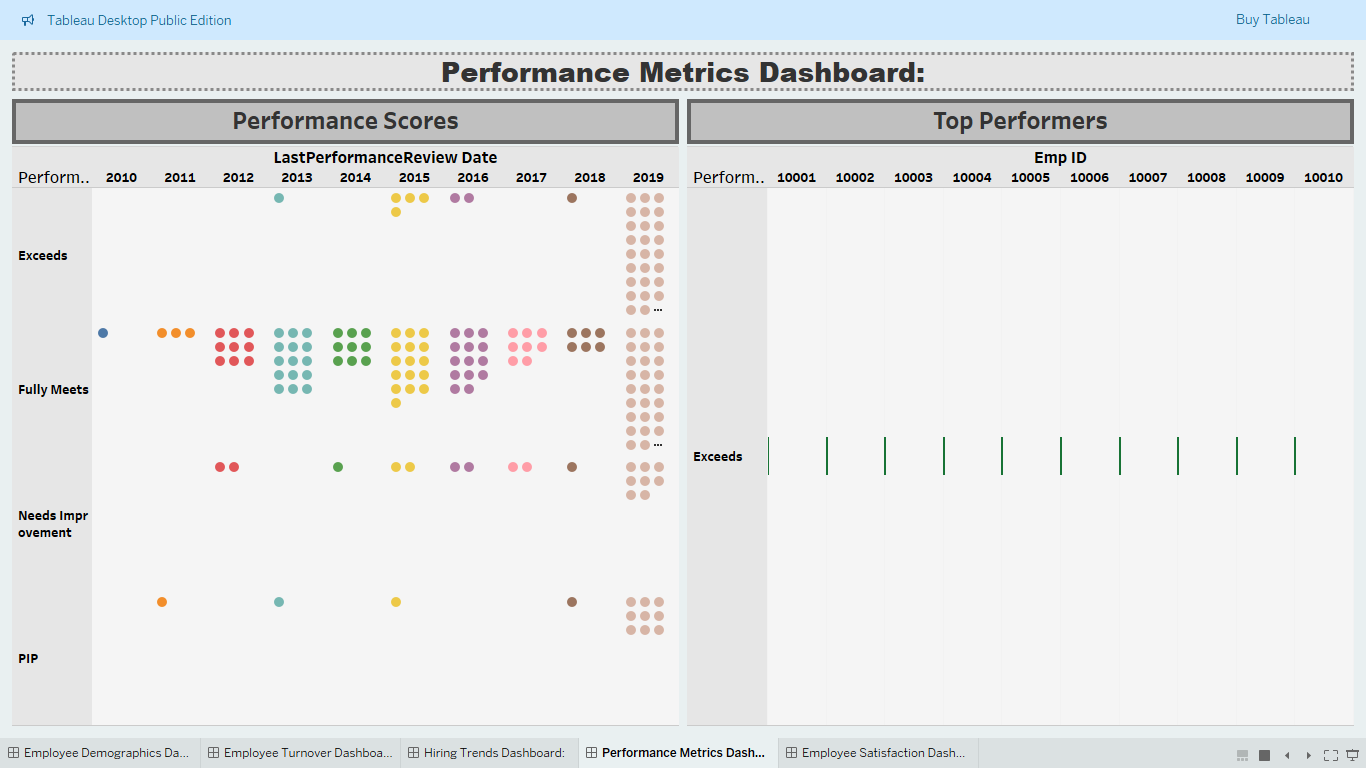

The dashboard page shown, as its layout file describes it:
{"tool":"tableau","page":{"name":"Performance Metrics Dashboard:","canvas":[1000,1000],"units":"permille","ordinal":4},"visuals":[{"type":"title","box":[6.9,14.7,986.1,86.4]},{"type":"worksheet","title":"Performance Scores","mark":"Circle","rows":["PerformanceScore"],"cols":["LastPerformanceReview_Date"],"box":[6.9,101.1,493.1,884.2]},{"type":"worksheet","title":"Top Performers","mark":"Bar","rows":["PerformanceScore"],"cols":["EmpID"],"box":[500,101.1,493.1,884.2]}]}

Visuals, with their boxes on the dashboard's canvas, which has no fixed pixel size, in thousandths of its width and height (x1, y1, x2, y2). These are canvas units, not pixel positions in the 1366x768 screenshot, which may show the page scaled, cropped or inside an application window:
title: detection(7, 15, 993, 101)
"Performance Scores" worksheet (Circle marks): detection(7, 101, 500, 985)
"Top Performers" worksheet (Bar marks): detection(500, 101, 993, 985)
